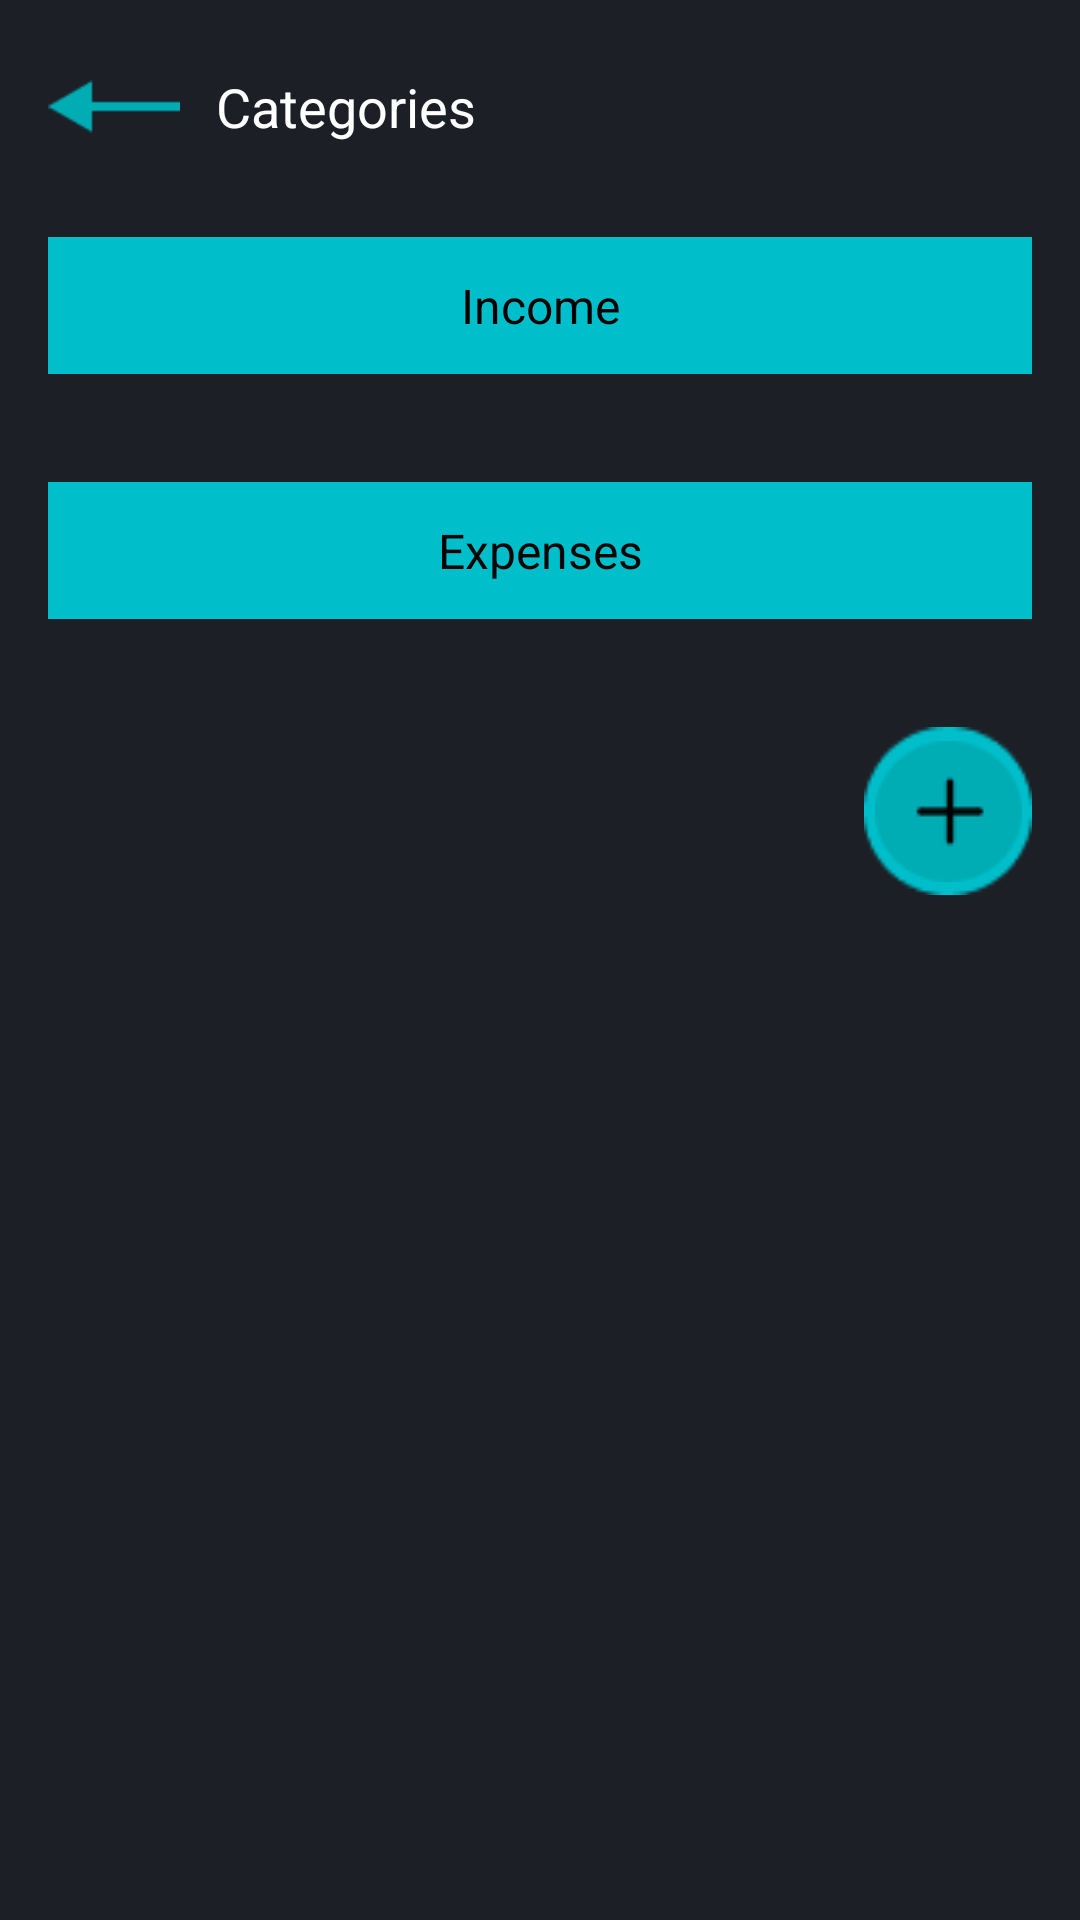

Named icons in this screenshot (1080px×1920px) and their centers, (x=x, y=y):
Add category: (x=948, y=811)
back arrow: (x=114, y=106)
